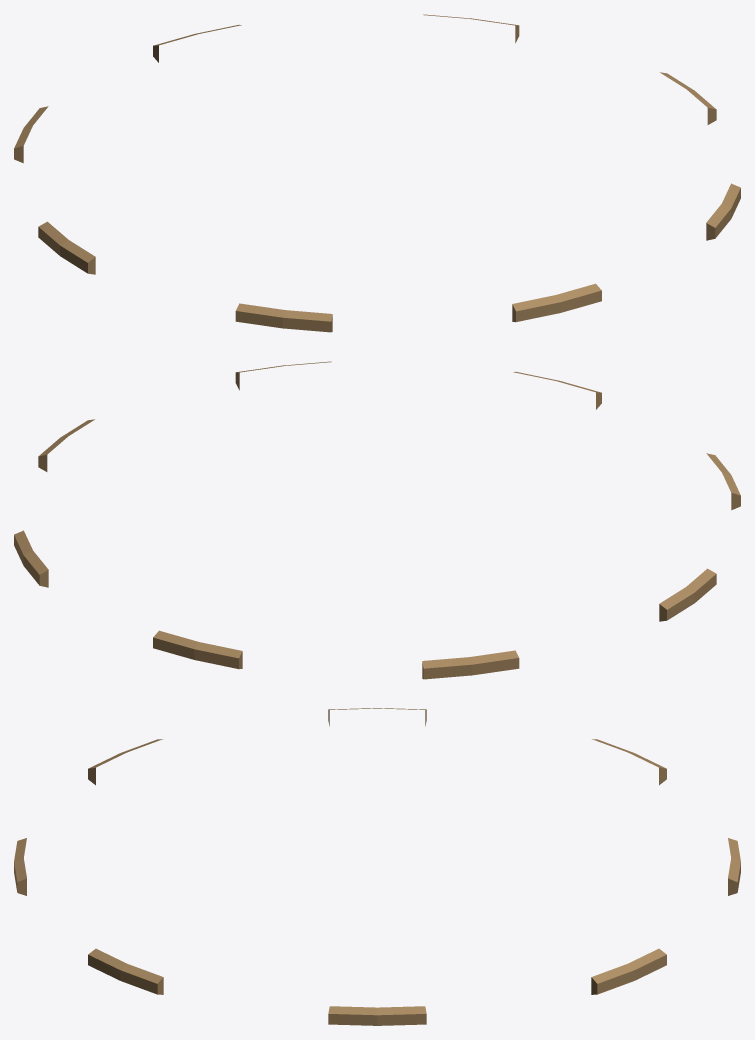
The model's file is dome.trim_middle.sandstone.glb.
3 renders of one model, top to bottom at view 1: azimuth 30°, elevation 25°; view 2: azimuth 150°, elevation 25°; view 3: azimuth 270°, elevation 25°, orthographic.
Parts seen in each view (by area): view 1: dome_trim_middle_sandstone; view 2: dome_trim_middle_sandstone; view 3: dome_trim_middle_sandstone.
Part boxes in pixels (box(x1,y1,x2,y2)): dome_trim_middle_sandstone: box(14, 14, 740, 332); dome_trim_middle_sandstone: box(14, 361, 740, 679); dome_trim_middle_sandstone: box(14, 708, 740, 1025).
Size of what is drawn, in the model's own units: 7.4 by 0.2 by 7.4.
